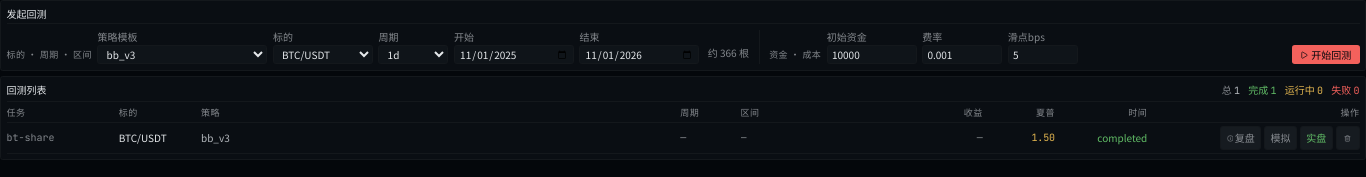
Scenario: 删除回测记录 › 点确认前点取消 → 不调 deleteBacktest
What coordinates should you click on to do the following:
click the button named "删除 bt-share"
I would click on:
 (1348, 138)
Its box is [1336, 126, 1360, 150].
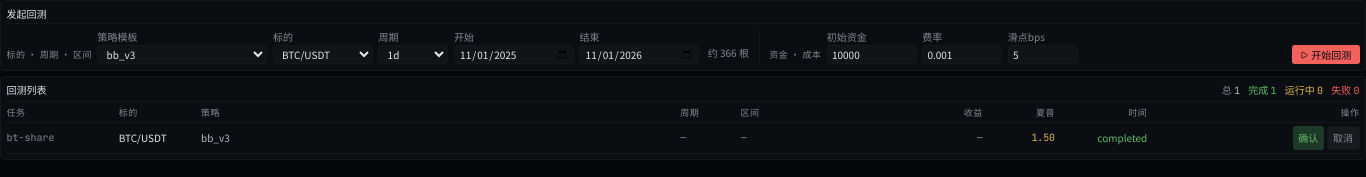
What coordinates should you click on to do the following:
click the button "取消"
I would click on:
 (1343, 138)
Its box is [1326, 126, 1360, 150].
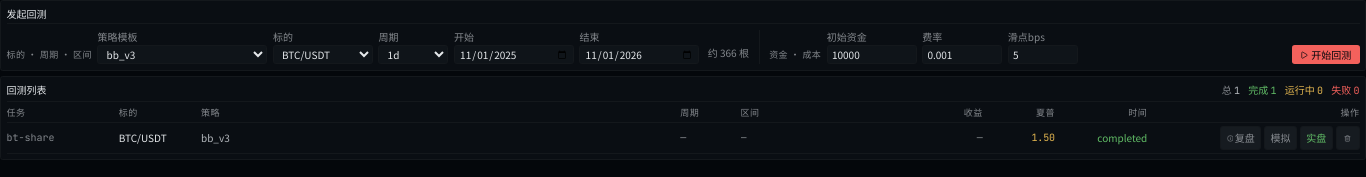
Expected: the button "确认" is gone
